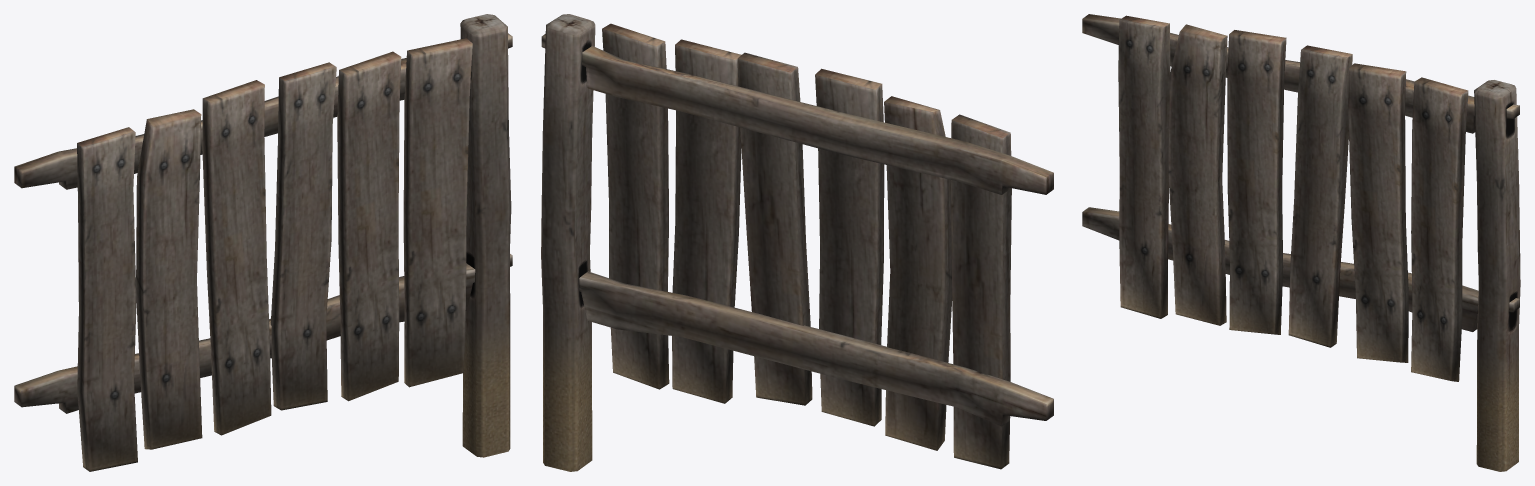
The model's file is wall_wood_straight.fbx.
The picture shows the model from 3 angles, left to right: view 1: azimuth 30°, elevation 25°; view 2: azimuth 150°, elevation 25°; view 3: azimuth 330°, elevation 25°; orthographic projection. The views are drawn at different scales.
Parts seen in each view (by area): view 1: wall_wood_straight; view 2: wall_wood_straight; view 3: wall_wood_straight.
Part boxes in pixels (x1,y1,x2,y2): wall_wood_straight: [14, 14, 512, 471]; wall_wood_straight: [541, 14, 1053, 471]; wall_wood_straight: [1082, 14, 1520, 471].
Bounding box in the file's own units: 1.64 × 1.37 × 0.1761.
